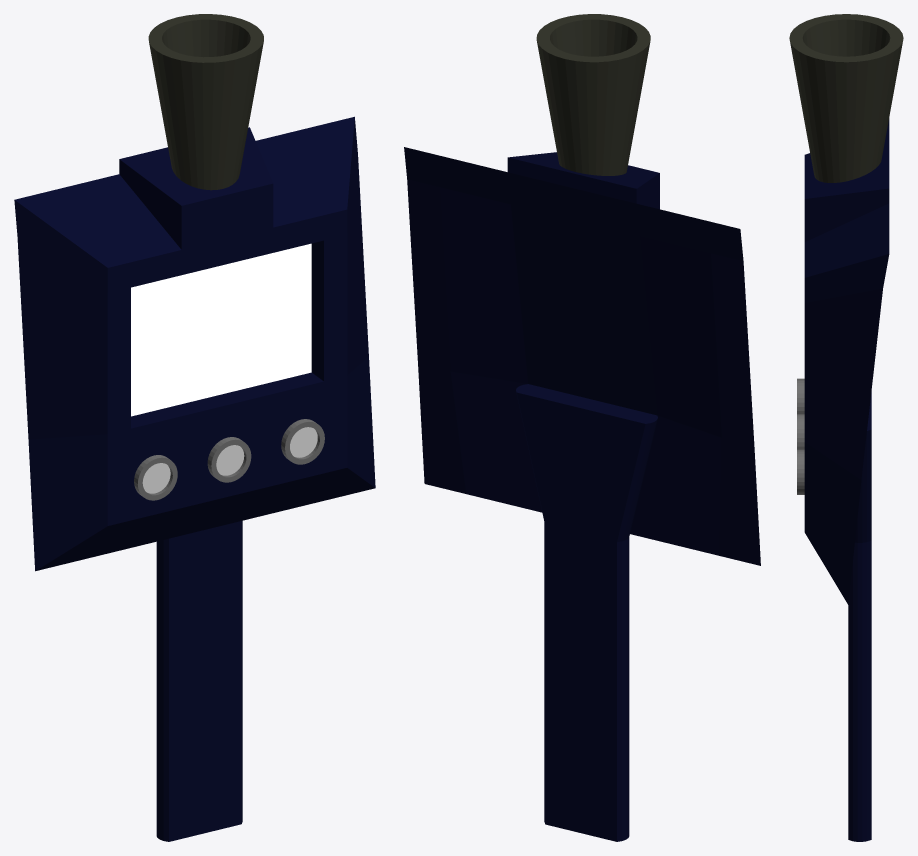
Rendered from soundgun2.fbx.
3 renders of one model, left to right at view 1: azimuth 30°, elevation 25°; view 2: azimuth 150°, elevation 25°; view 3: azimuth 270°, elevation 25°, orthographic.
Visible parts, largest first — view 1: Cube, Cube.001, Cylinder, Cylinder.002, Cylinder.001, Cylinder.004, Cylinder.003, Cylinder.005; view 2: Cube, Cylinder; view 3: Cube, Cylinder, Cylinder.002, Cylinder.001.
Part boxes in pixels (x1=…): Cube: x1=14, y1=116, x2=375, y2=841; Cube.001: x1=131, y1=243, x2=311, y2=416; Cylinder: x1=148, y1=14, x2=263, y2=190; Cylinder.002: x1=134, y1=419, x2=324, y2=500; Cylinder.001: x1=207, y1=437, x2=251, y2=482; Cylinder.004: x1=290, y1=427, x2=317, y2=457; Cylinder.003: x1=216, y1=445, x2=244, y2=475; Cylinder.005: x1=142, y1=463, x2=170, y2=493; Cube: x1=404, y1=147, x2=760, y2=841; Cylinder: x1=536, y1=14, x2=650, y2=175; Cube: x1=804, y1=118, x2=889, y2=841; Cylinder: x1=789, y1=14, x2=903, y2=182; Cylinder.002: x1=797, y1=378, x2=804, y2=494; Cylinder.001: x1=797, y1=414, x2=804, y2=449.
Size of the model in its own units: 200 by 446 by 58.94.
